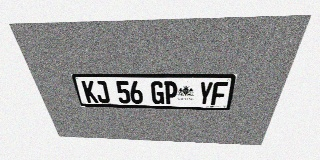5: (116, 81, 131, 104)
6: (128, 81, 143, 104)
F: (211, 82, 228, 106)
G: (151, 81, 164, 104)
J: (93, 81, 110, 103)
K: (81, 81, 99, 103)
P: (164, 81, 177, 105)
Y: (197, 82, 214, 105)
